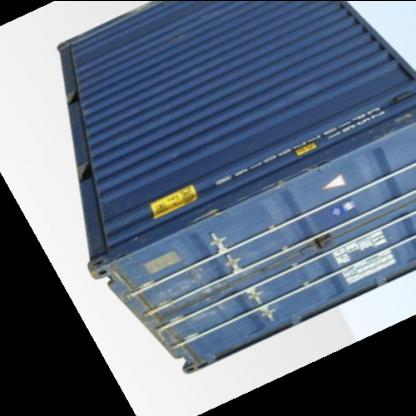Damage: (158, 272, 232, 332), (230, 166, 344, 202), (194, 204, 228, 228), (310, 232, 342, 254)
